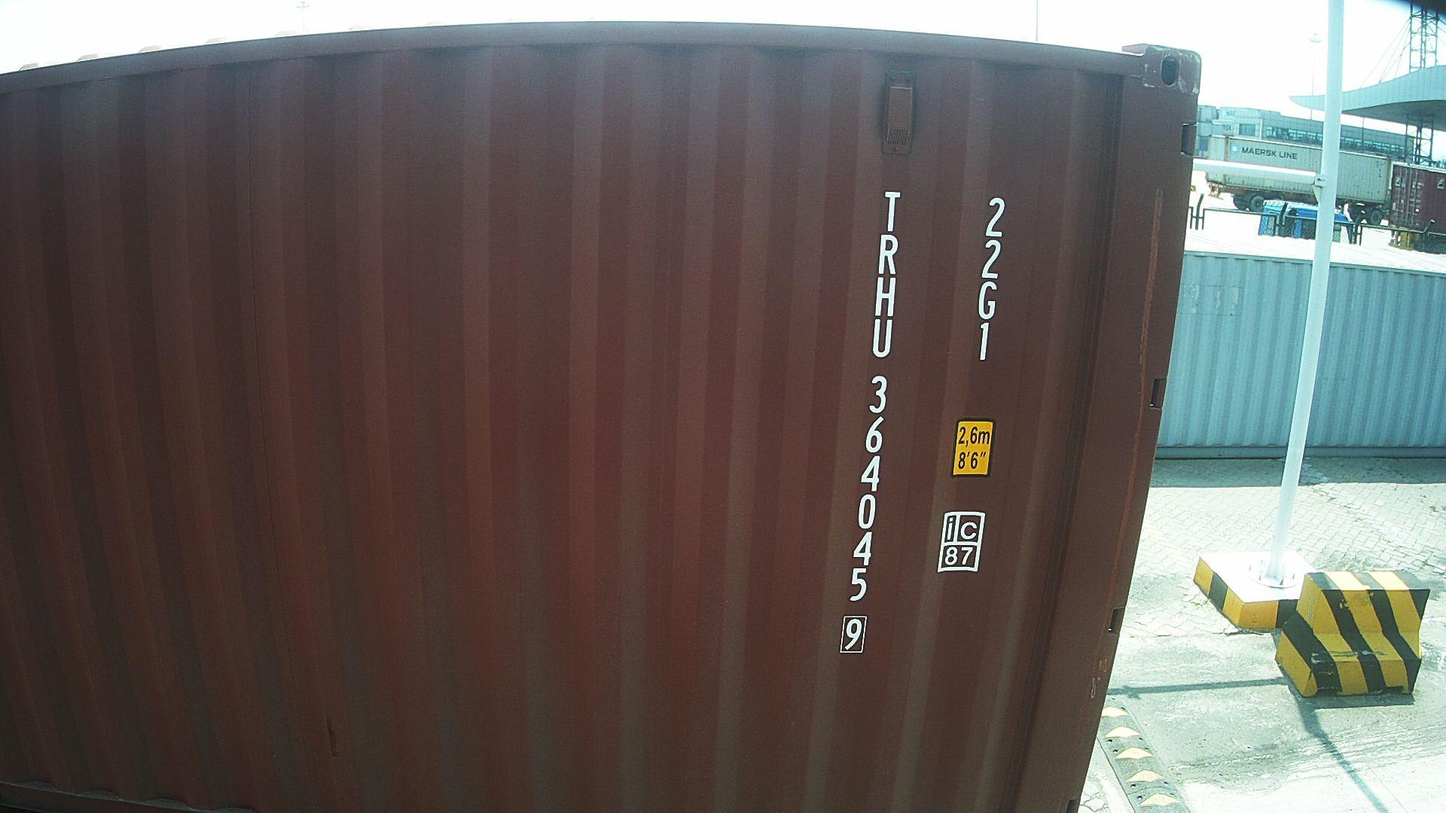container-numbers: (836, 186, 904, 659), (968, 193, 1008, 365)
